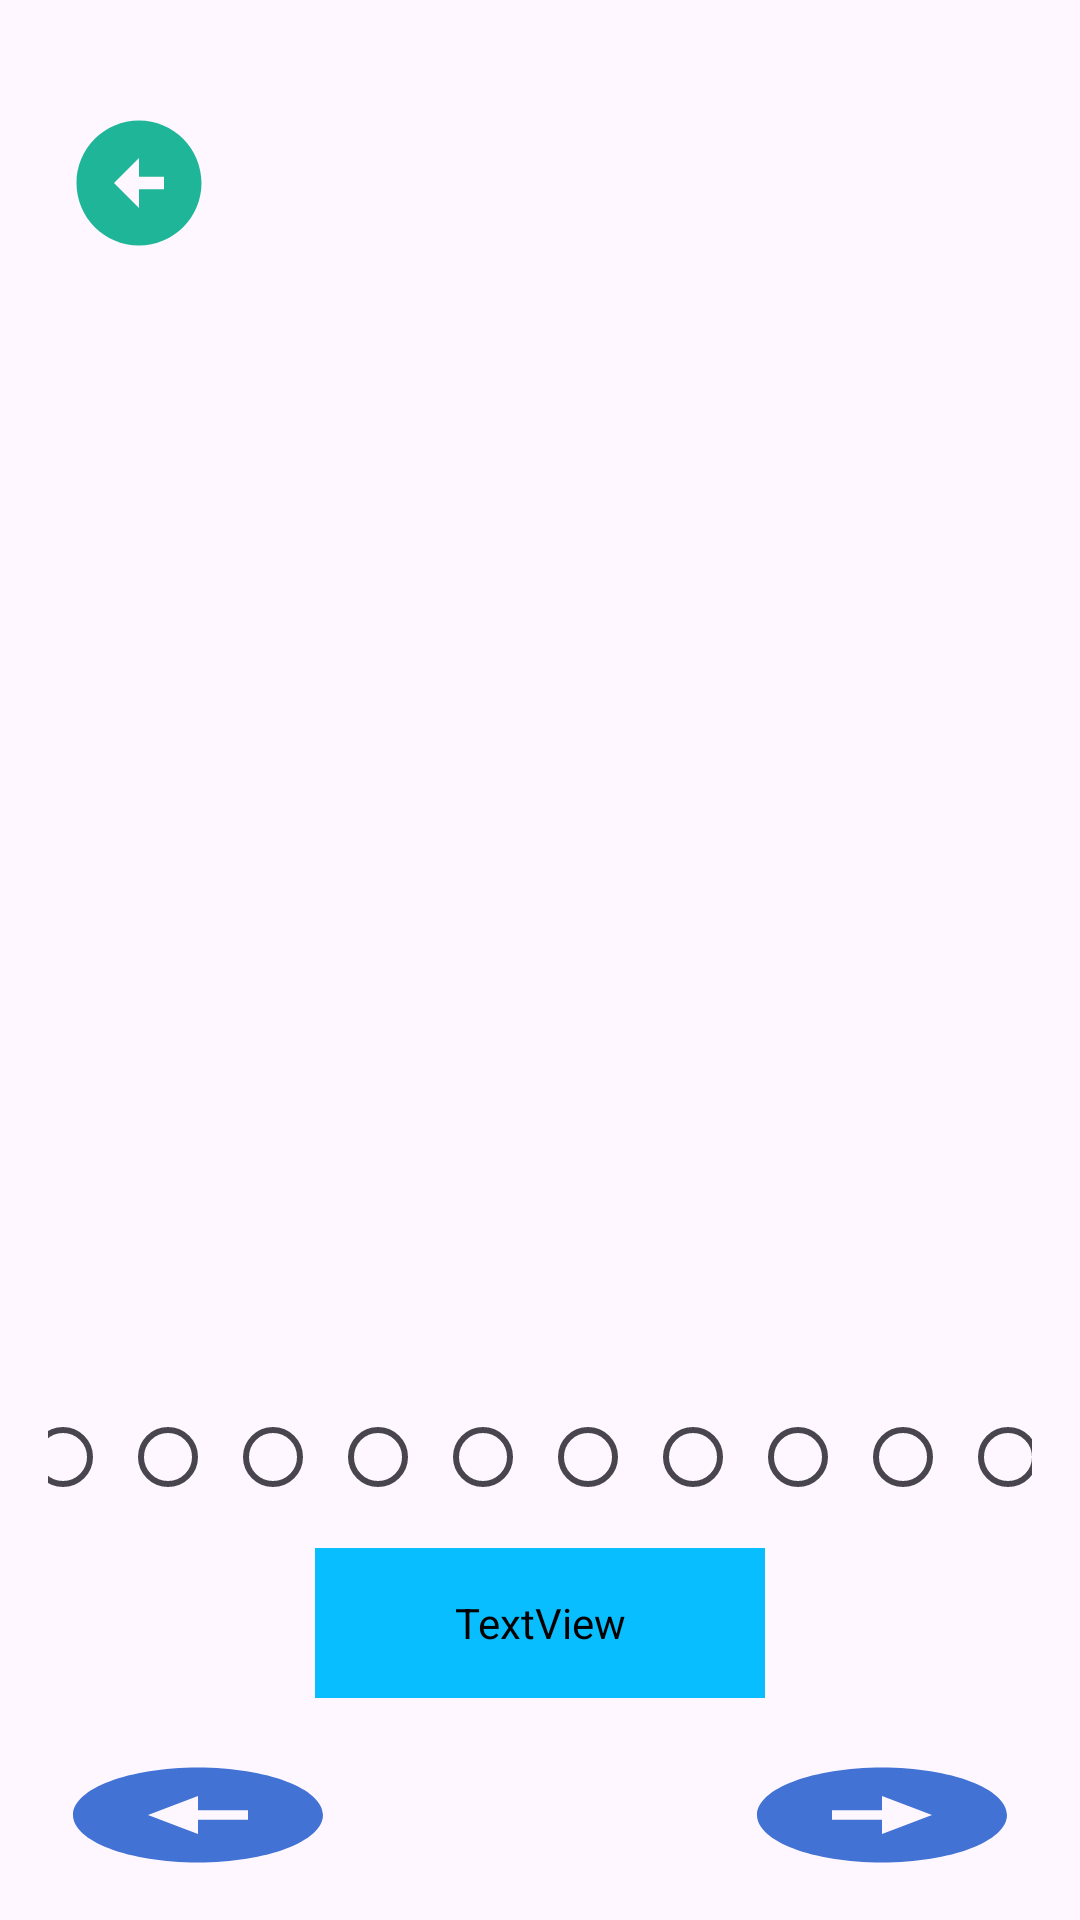

Point at icon controls on the screen. Image size 1080 x 1920, points as (x=x, y=y).
arrow circle left: (x=139, y=183)
